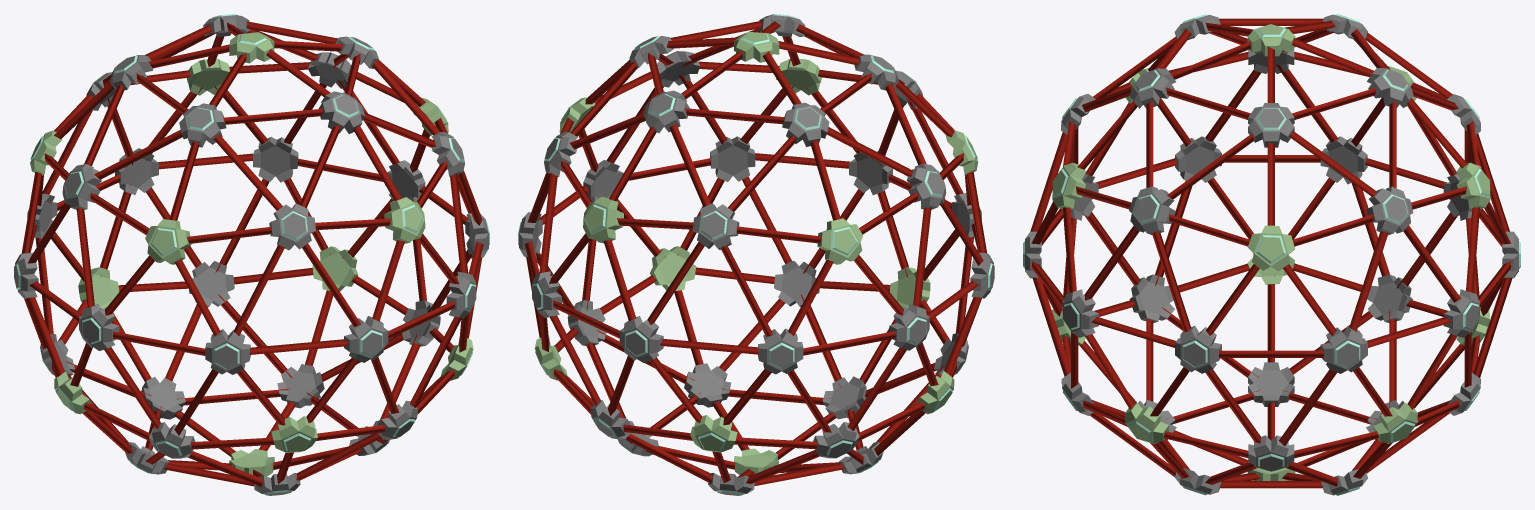
The model's file is Ball.fbx.
The picture shows the model from 3 angles, left to right: view 1: azimuth 30°, elevation 25°; view 2: azimuth 150°, elevation 25°; view 3: azimuth 270°, elevation 25°; orthographic projection. The views are drawn at different scales.
Parts seen in each view (by area): view 1: PlasmaBars, Corners; view 2: PlasmaBars, Corners; view 3: PlasmaBars, Corners.
Boxes of the visible parts, x1,y1,x2,y2 form: PlasmaBars: [21, 21, 483, 486]; Corners: [14, 14, 489, 495]; PlasmaBars: [524, 21, 986, 486]; Corners: [518, 14, 994, 495]; PlasmaBars: [1030, 18, 1512, 488]; Corners: [1023, 14, 1520, 495].
Size of the model in its own units: 257 by 266 by 266.
